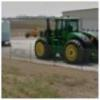tractors: (34, 18, 99, 66)
